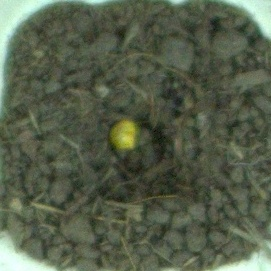chilli seed: (108, 118, 138, 149)
